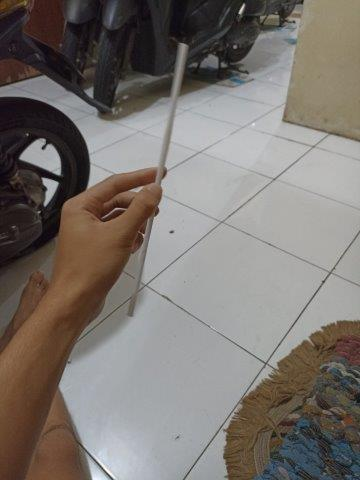sedotan: (127, 44, 187, 313)
